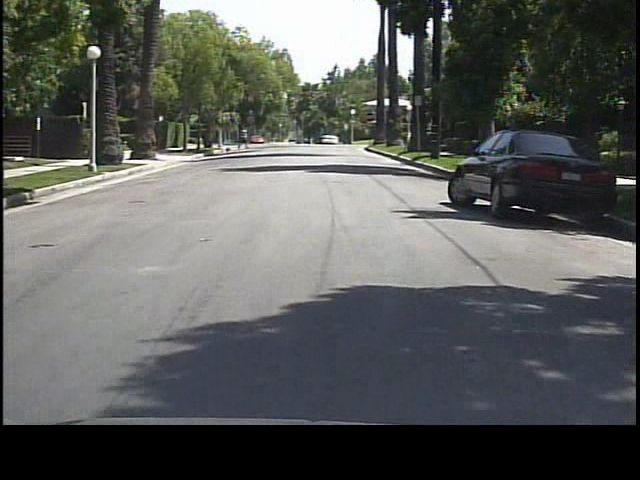person: (238, 126, 252, 155)
